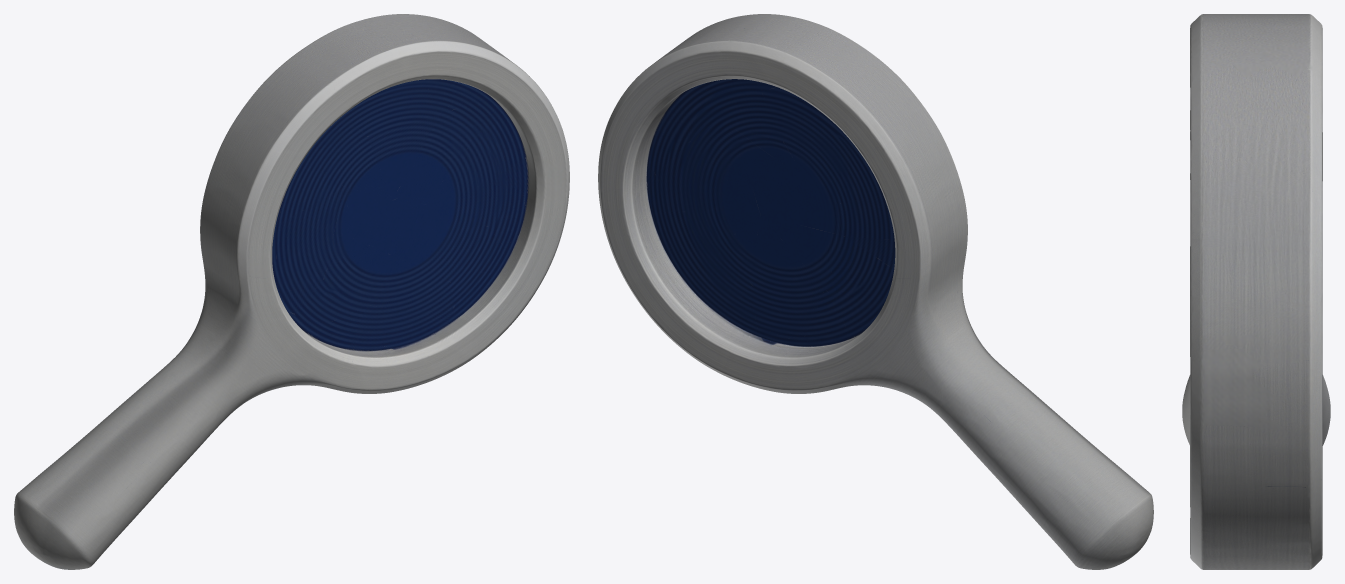
Rendered from meshy-search-source.glb.
3 views of the same model, side by side, from view 1: azimuth 30°, elevation 25°; view 2: azimuth 150°, elevation 25°; view 3: azimuth 270°, elevation 25° (orthographic). The views are drawn at different scales.
Bounding box in the file's own units: 1.9 × 1.57 × 0.3164.
Materials: 1 (1 with a texture image).
